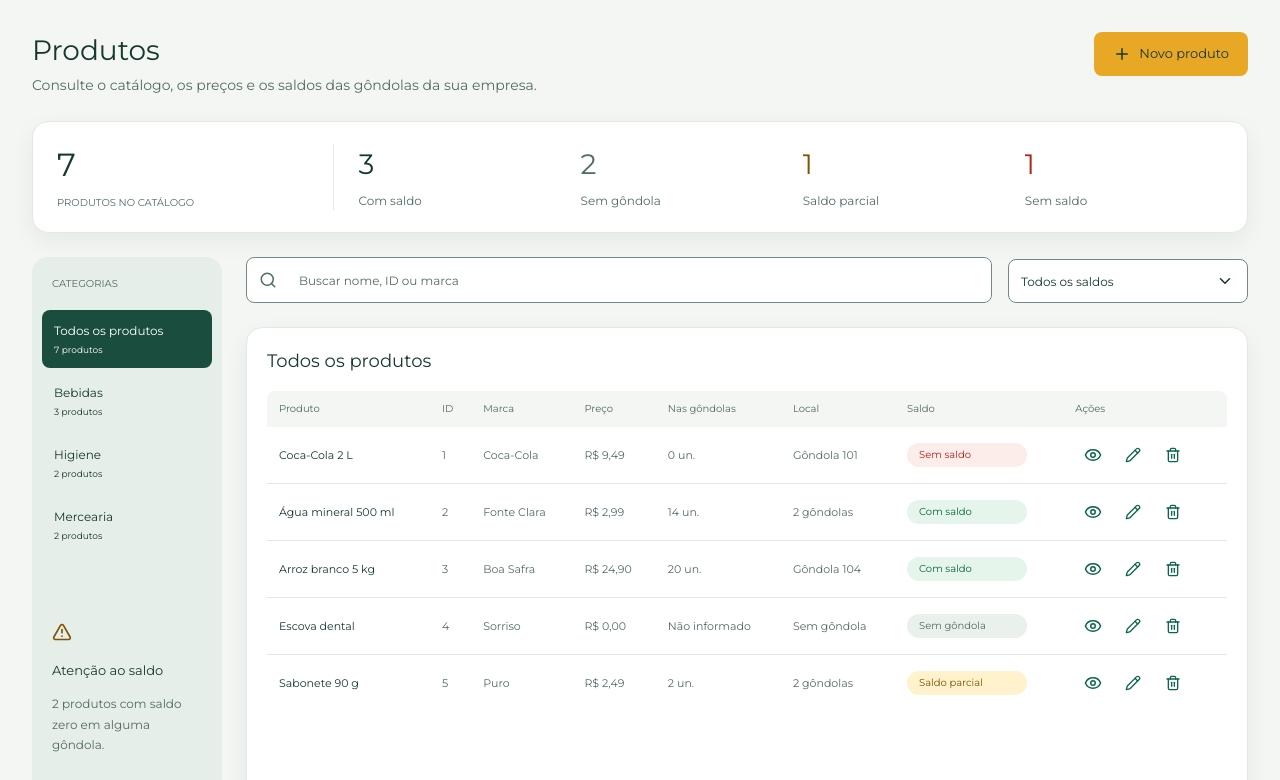
it: does not turn absent placements into zero stock or fabricate warehouse values
Expected: the table is shown, top-left (267, 391), bottom-right (1227, 711)
Expected: the text "Não informado" is shown, top-left (656, 598), bottom-right (781, 655)
Click the button named "Ver detalhes de Escova dental".
click(1093, 626)  # box top-left (1075, 608), bottom-right (1111, 644)
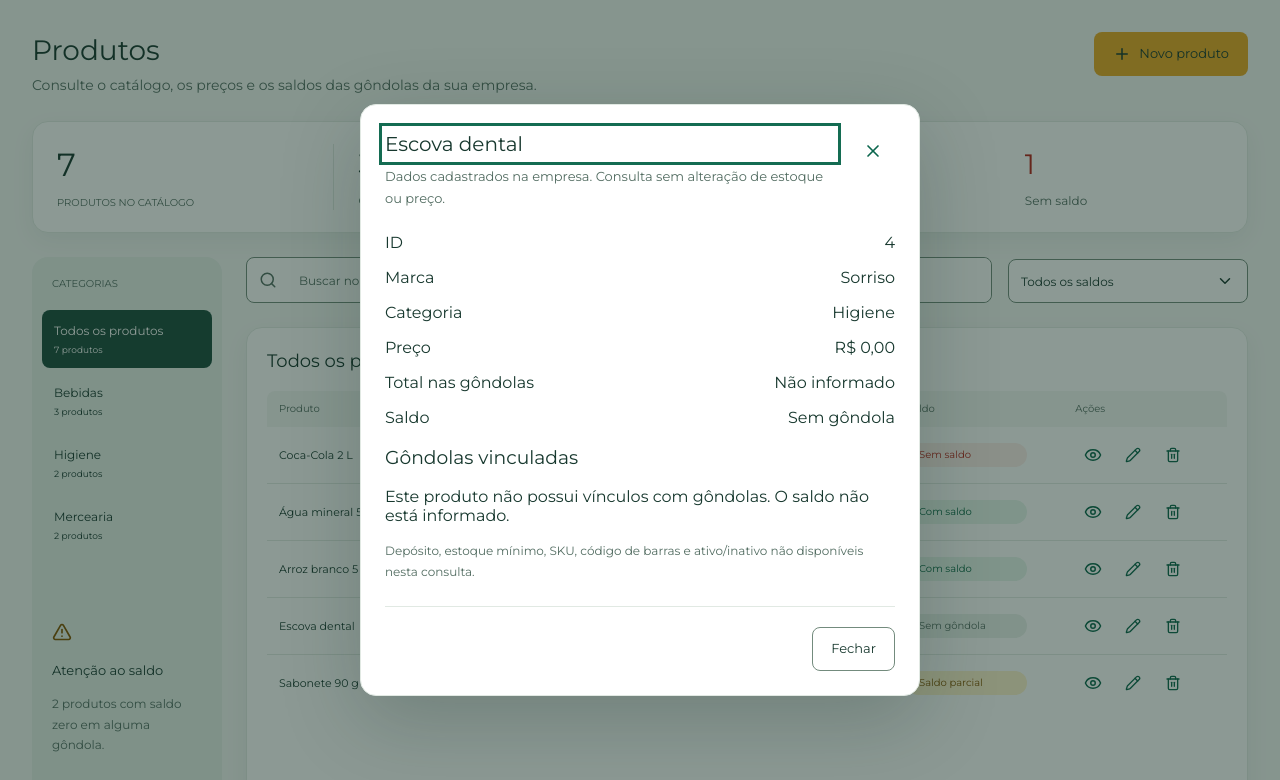
Expected: the text "não possui vínculos" is shown, top-left (385, 487), bottom-right (869, 525)
Expected: the text "R$ 0,00" is shown, top-left (835, 338), bottom-right (895, 357)
